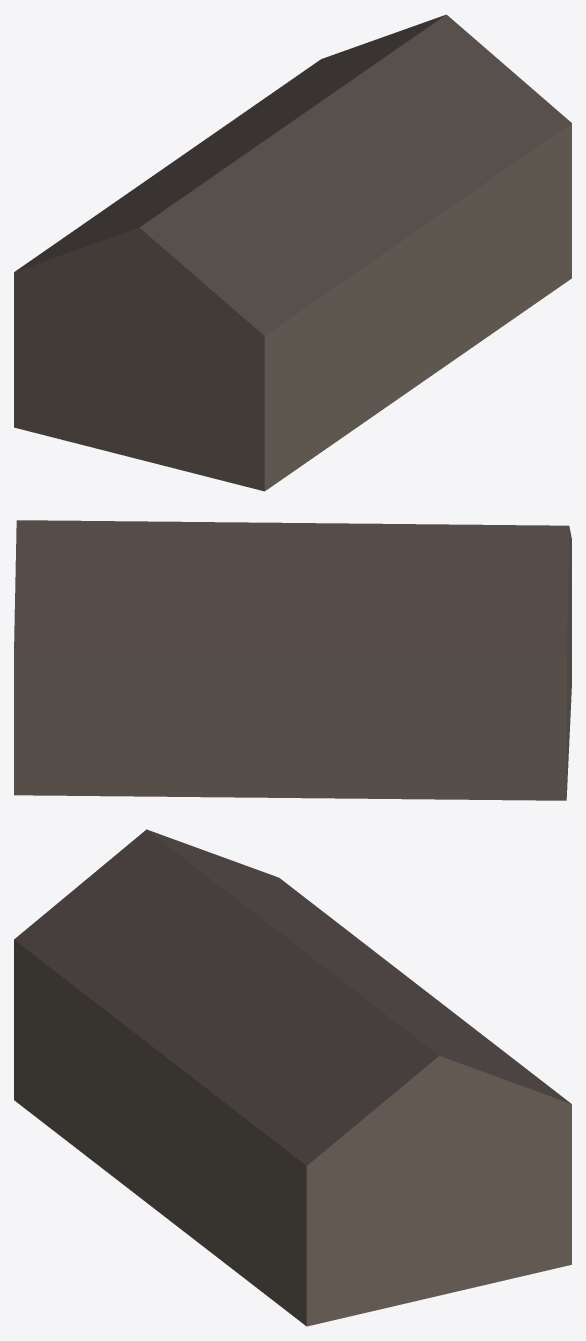
3 views of the same model, one above another, from view 1: azimuth 30°, elevation 25°; view 2: azimuth 150°, elevation 25°; view 3: azimuth 270°, elevation 25° (orthographic). The views are drawn at different scales.
Visible parts, largest first — view 1: HP-w859088516; view 2: HP-w859088516; view 3: HP-w859088516.
Part boxes in pixels (x1,y1,x2,y2): HP-w859088516: (14,14,571,491); HP-w859088516: (14,520,571,800); HP-w859088516: (14,829,571,1326).
Bounding box in the file's own units: 23.1 × 8.96 × 18.89.
